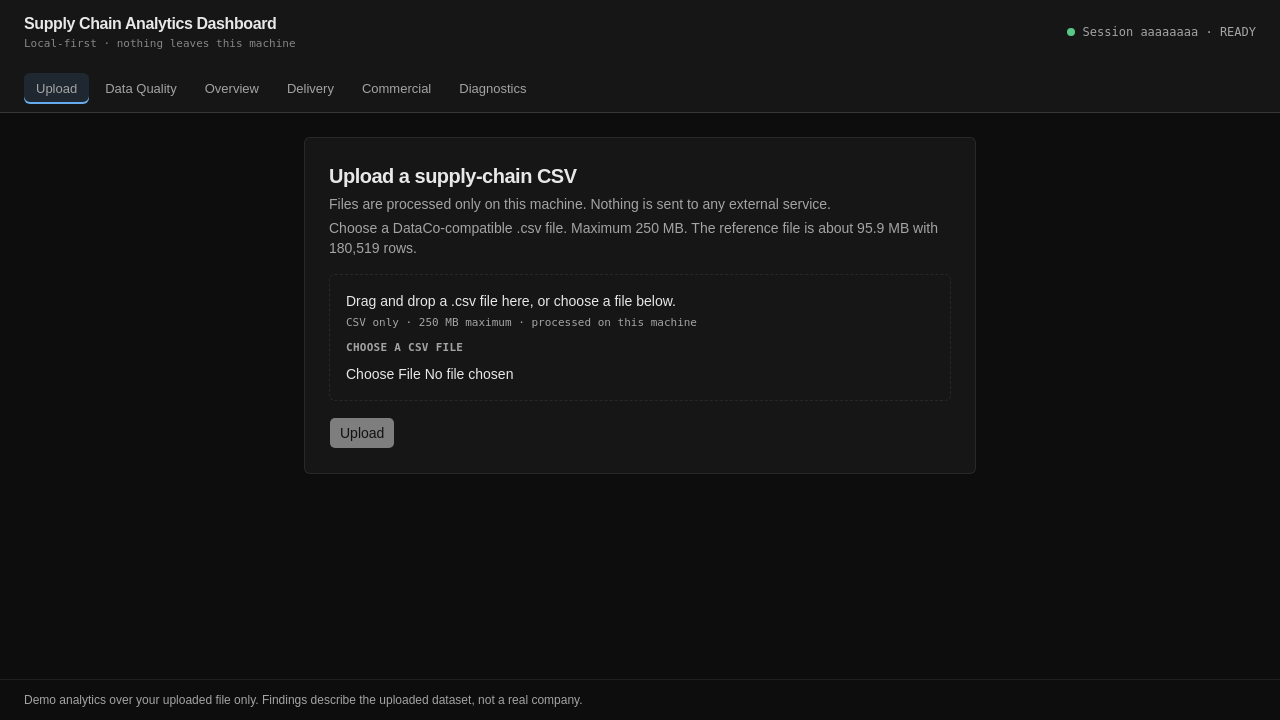
it: Phase-11 Data Quality view › uses the governed detected/fixed/flagged/excluded/unchanged vocabulary
What coordinates should you click on to do the following:
click the button "Data Quality"
I would click on:
 (141, 88)
Its box is [93,72,189,104].
(page scrolled)
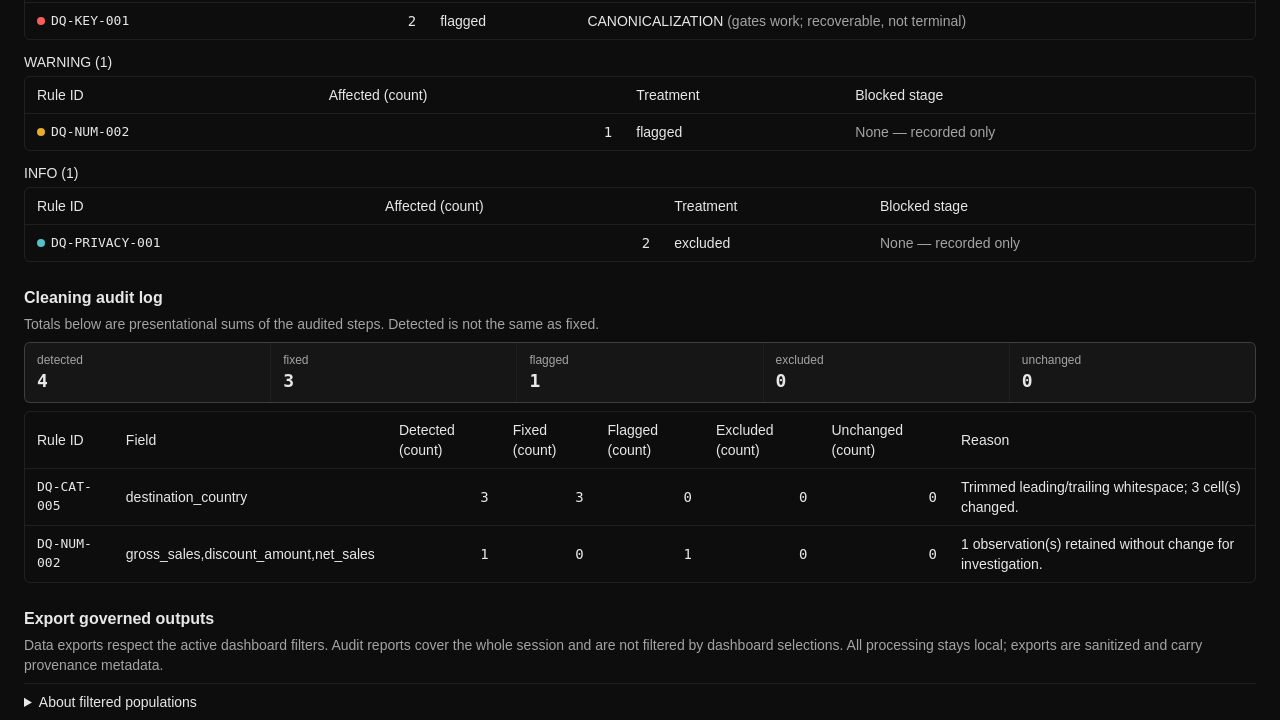
Now the column heading "Detected (count)" is shown, box [387,412,501,468]
Now the column heading "Fixed (count)" is shown, box [501,412,596,468]
Now the column heading "Flagged (count)" is shown, box [596,412,704,468]
